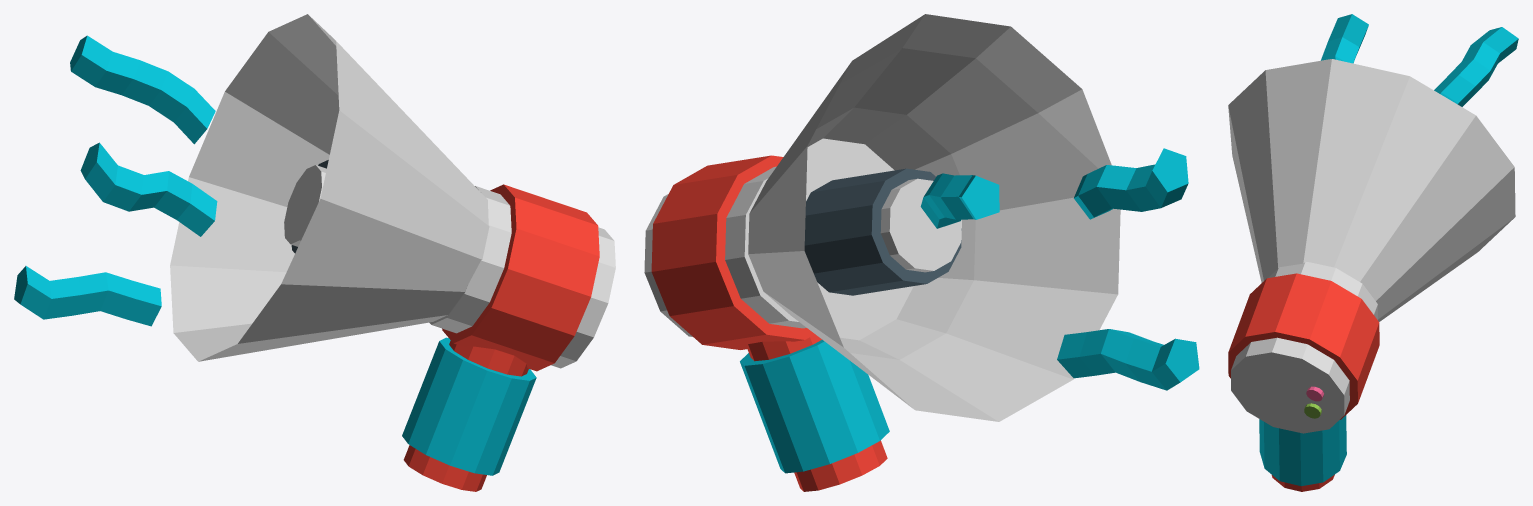
File: Exams.glb
3 renders of one model, left to right at view 1: azimuth 30°, elevation 25°; view 2: azimuth 150°, elevation 25°; view 3: azimuth 270°, elevation 25°, orthographic. The views are drawn at different scales.
Visible parts, largest first — view 1: group3790297, group785146625, group1572593315, group1862452726, group896492552, group599585708, group18940176, group637496128, group856757783; view 2: group3790297, group785146625, group1572593315, group1093518013, group599585708, group18940176, group856757783, group1862452726, group896492552, group637496128; view 3: group3790297, group785146625, group1862452726, group1572593315, group896492552, group18940176, group637496128.
Part boxes in pixels (x1=…): group3790297: x1=170, y1=14, x2=489, y2=361; group785146625: x1=442, y1=184, x2=599, y2=371; group1572593315: x1=402, y1=337, x2=536, y2=475; group1862452726: x1=429, y1=186, x2=615, y2=368; group896492552: x1=70, y1=35, x2=215, y2=144; group599585708: x1=14, y1=266, x2=161, y2=326; group18940176: x1=80, y1=142, x2=217, y2=236; group637496128: x1=403, y1=340, x2=528, y2=491; group856757783: x1=284, y1=165, x2=326, y2=246; group3790297: x1=748, y1=14, x2=1120, y2=421; group785146625: x1=651, y1=155, x2=814, y2=349; group1572593315: x1=740, y1=339, x2=889, y2=473; group1093518013: x1=804, y1=168, x2=961, y2=295; group599585708: x1=1057, y1=329, x2=1199, y2=390; group18940176: x1=1074, y1=148, x2=1188, y2=219; group856757783: x1=880, y1=178, x2=961, y2=272; group1862452726: x1=644, y1=166, x2=806, y2=336; group896492552: x1=920, y1=173, x2=999, y2=228; group637496128: x1=747, y1=334, x2=887, y2=491; group3790297: x1=1228, y1=59, x2=1515, y2=321; group785146625: x1=1228, y1=273, x2=1379, y2=419; group1862452726: x1=1231, y1=261, x2=1377, y2=433; group1572593315: x1=1259, y1=415, x2=1346, y2=486; group896492552: x1=1434, y1=27, x2=1518, y2=106; group18940176: x1=1321, y1=14, x2=1368, y2=63; group637496128: x1=1271, y1=474, x2=1334, y2=491.
Bounding box in the file's own units: 0.5873 × 0.485 × 0.3334.
